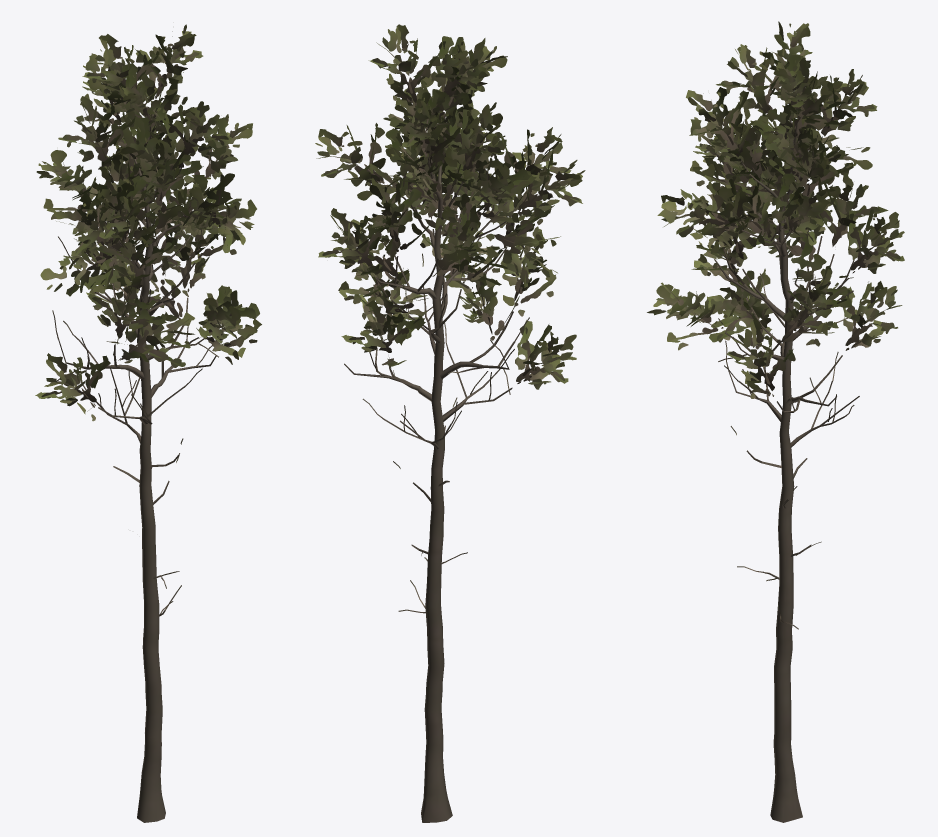
Rendered from SM_BlackAlder_Forest_02_PP_LOD5.gltf.
3 renders of one model, left to right at view 1: azimuth 30°, elevation 25°; view 2: azimuth 150°, elevation 25°; view 3: azimuth 270°, elevation 25°, orthographic.
Visible parts, largest first — view 1: SM_BlackAlder_Forest_02_PP; view 2: SM_BlackAlder_Forest_02_PP; view 3: SM_BlackAlder_Forest_02_PP.
Boxes of the visible parts, x1=… form: SM_BlackAlder_Forest_02_PP: x1=35, y1=24, x2=261, y2=822; SM_BlackAlder_Forest_02_PP: x1=315, y1=24, x2=585, y2=822; SM_BlackAlder_Forest_02_PP: x1=647, y1=21, x2=904, y2=822.
Bounding box in the file's own units: 6.91 × 19.93 × 6.63.
2 materials, 2 textured.
